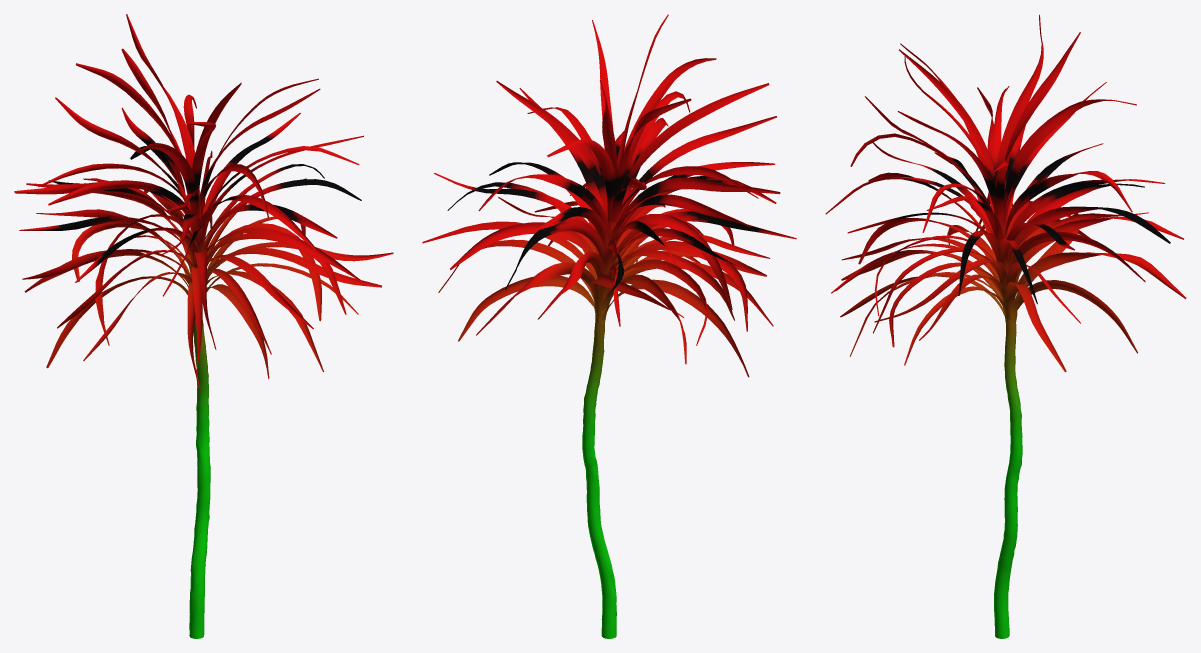
File: Dragon Tree_LOD0_Var1_wfypejzha.fbx
3 renders of one model, left to right at view 1: azimuth 30°, elevation 25°; view 2: azimuth 150°, elevation 25°; view 3: azimuth 270°, elevation 25°, orthographic.
Visible parts, largest first — view 1: _3ri2_Var1_LOD0; view 2: _3ri2_Var1_LOD0; view 3: _3ri2_Var1_LOD0.
Part boxes in pixels (left/top/right/bottom): _3ri2_Var1_LOD0: left=14, top=14, right=393, bottom=638; _3ri2_Var1_LOD0: left=422, top=14, right=796, bottom=638; _3ri2_Var1_LOD0: left=825, top=14, right=1186, bottom=638.
Size of the model in its own units: 53.6 by 96.78 by 53.76.
